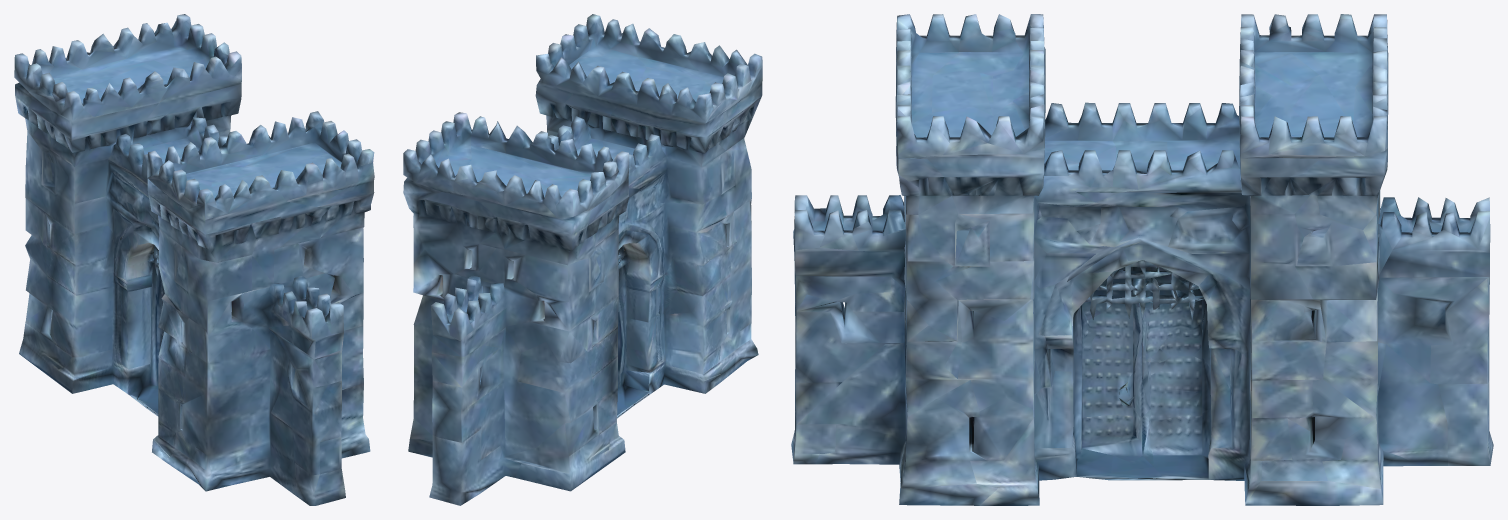
Rendered from castle_gate_diamond_ice.glb.
The picture shows the model from 3 angles, left to right: view 1: azimuth 30°, elevation 25°; view 2: azimuth 150°, elevation 25°; view 3: azimuth 270°, elevation 25°; orthographic projection. The views are drawn at different scales.
Parts seen in each view (by area): view 1: tripo_node_c9715a47-d73a-4e69-864f-7daa05b77624; view 2: tripo_node_c9715a47-d73a-4e69-864f-7daa05b77624; view 3: tripo_node_c9715a47-d73a-4e69-864f-7daa05b77624.
Boxes of the visible parts, x1,y1,x2,y2 form: tripo_node_c9715a47-d73a-4e69-864f-7daa05b77624: [14, 14, 374, 505]; tripo_node_c9715a47-d73a-4e69-864f-7daa05b77624: [403, 14, 762, 505]; tripo_node_c9715a47-d73a-4e69-864f-7daa05b77624: [791, 14, 1493, 505].
Size of the model in its own units: 0.3583 by 0.5968 by 0.9815.
Materials: 1 (1 with a texture image).
